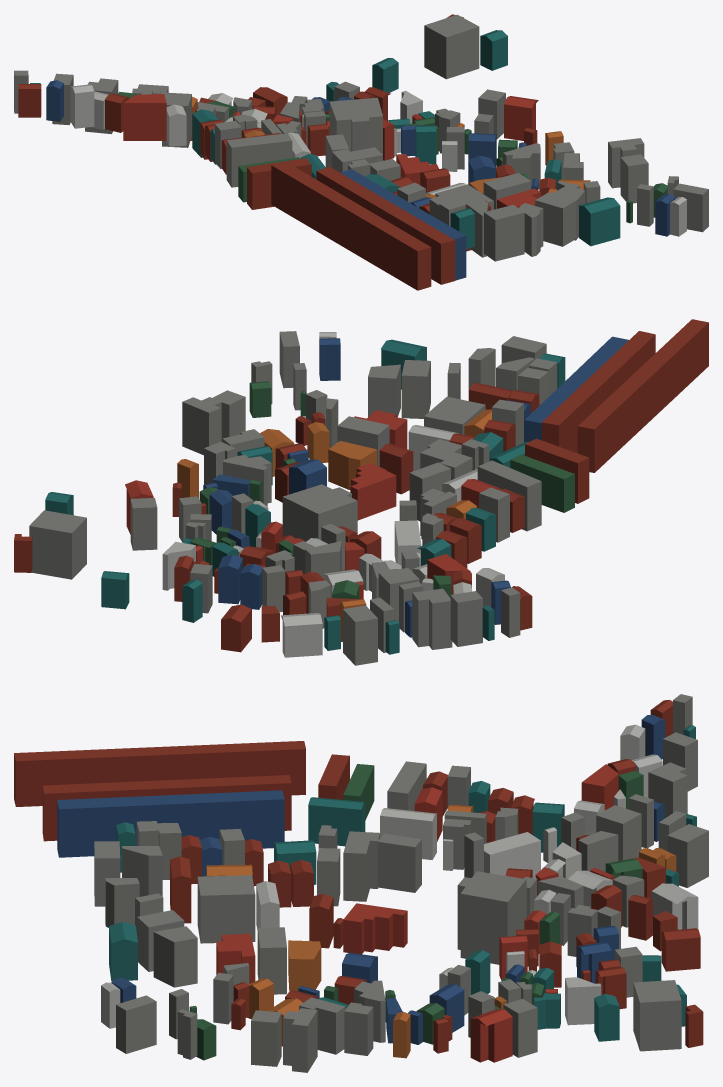
File: near-17-109447-59475.55961a3f.glb
3 views of the same model, one above another, from view 1: azimuth 30°, elevation 25°; view 2: azimuth 150°, elevation 25°; view 3: azimuth 270°, elevation 25° (orthographic). The views are drawn at different scales.
Size of the model in its own units: 309 by 73.43 by 341.
